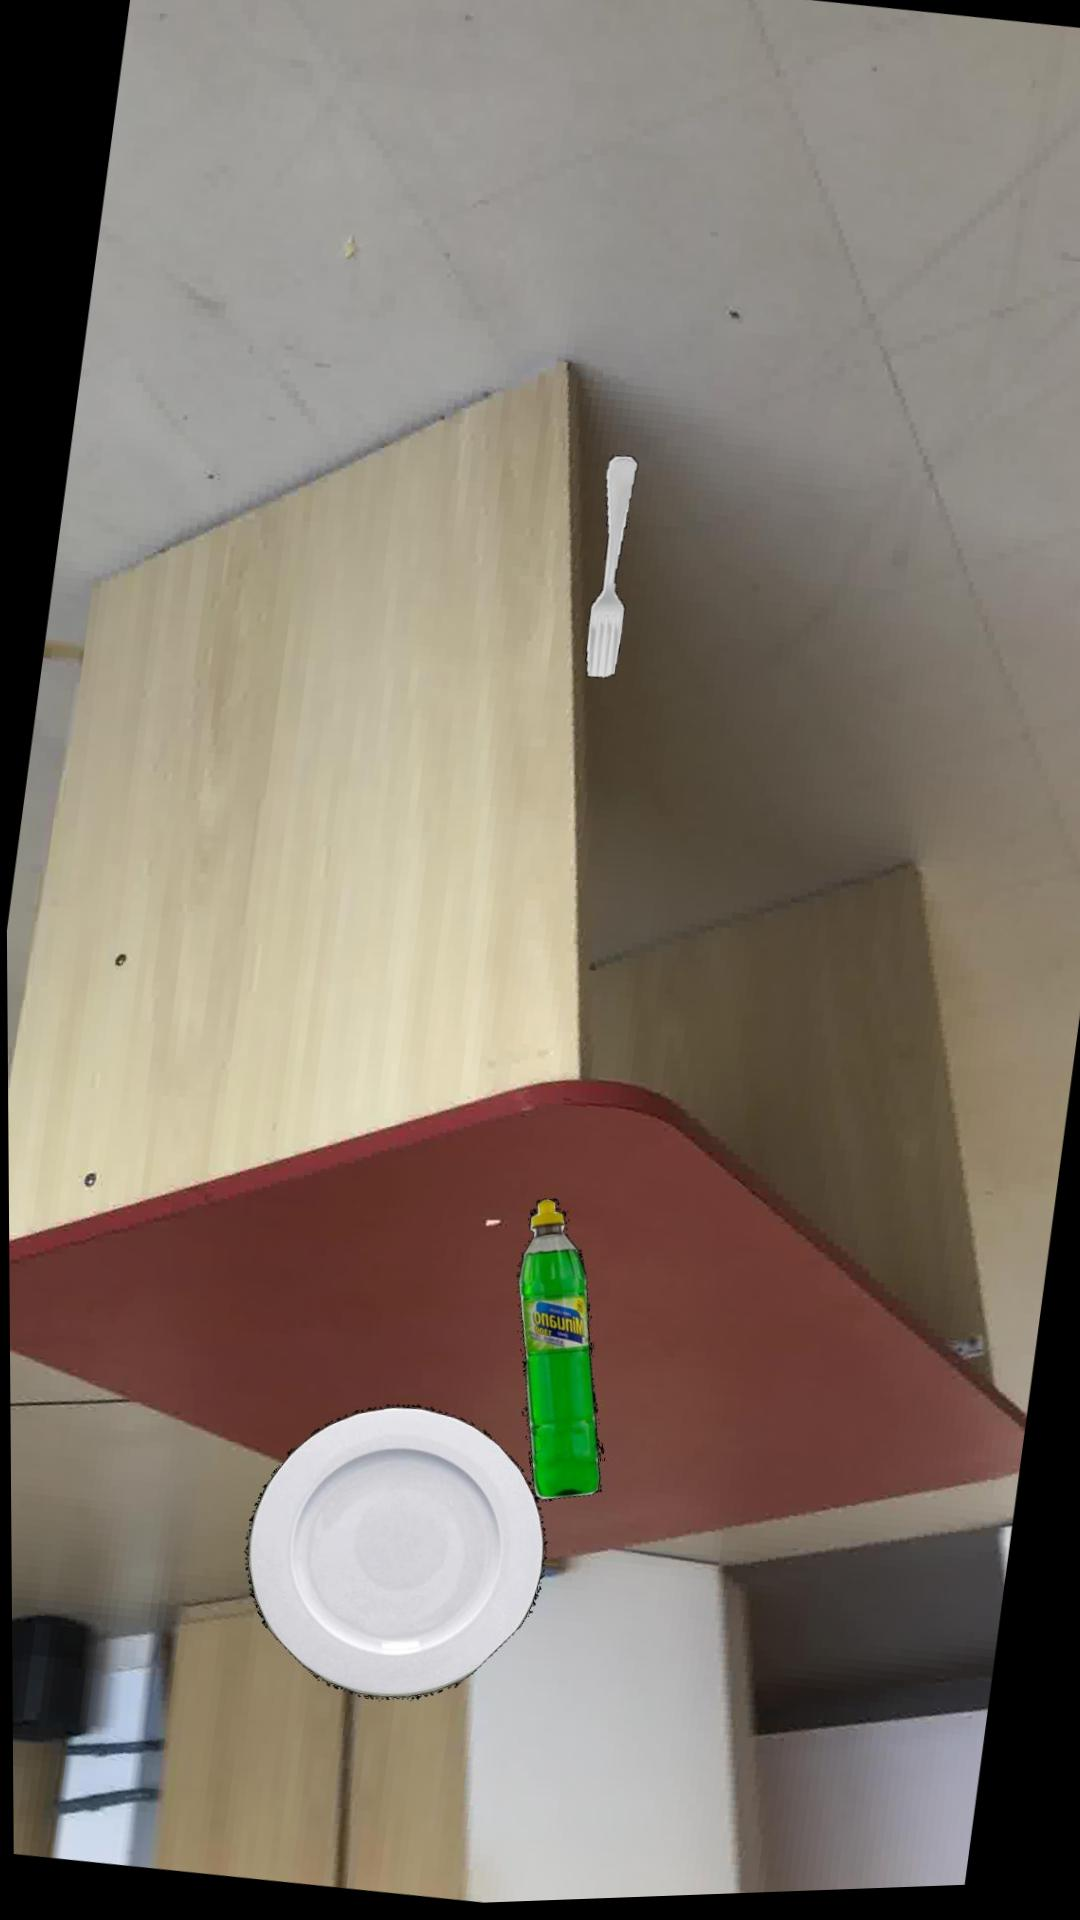cleaner: (516, 1203, 603, 1506)
fork: (584, 460, 638, 684)
plate: (244, 1408, 546, 1704)
